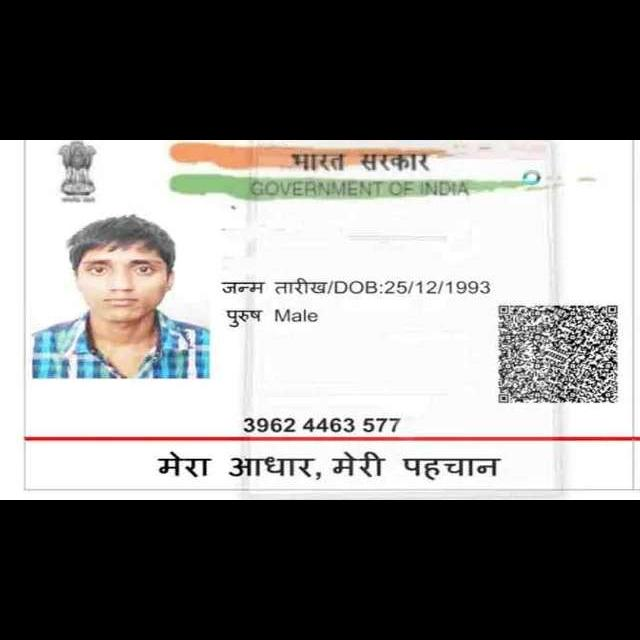aadhaar: (16, 140, 640, 496)
